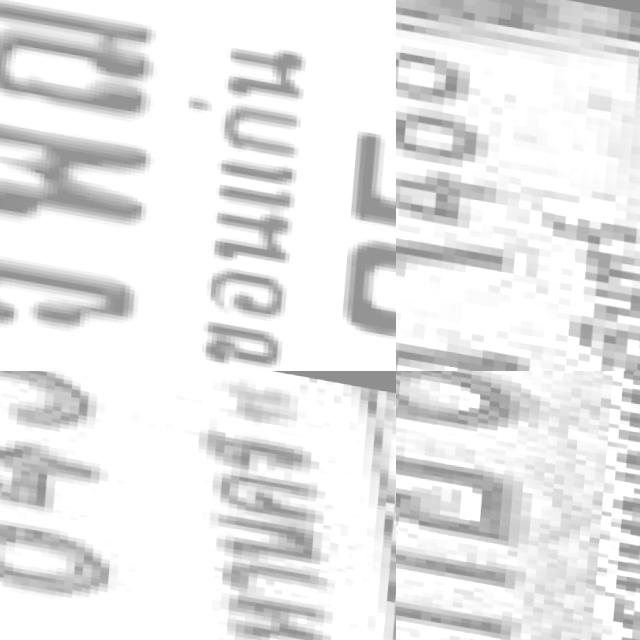license-plate: (0, 0, 396, 371), (0, 371, 396, 640), (396, 0, 640, 371), (396, 371, 640, 640)
